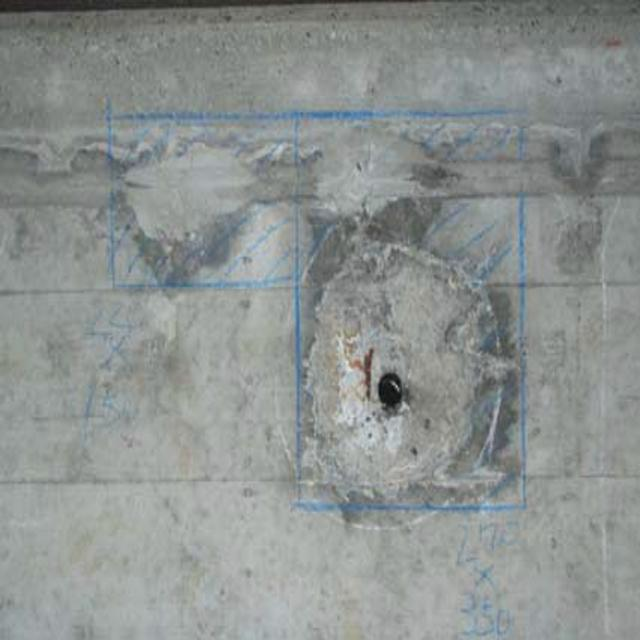spalling: (310, 248, 507, 512)
